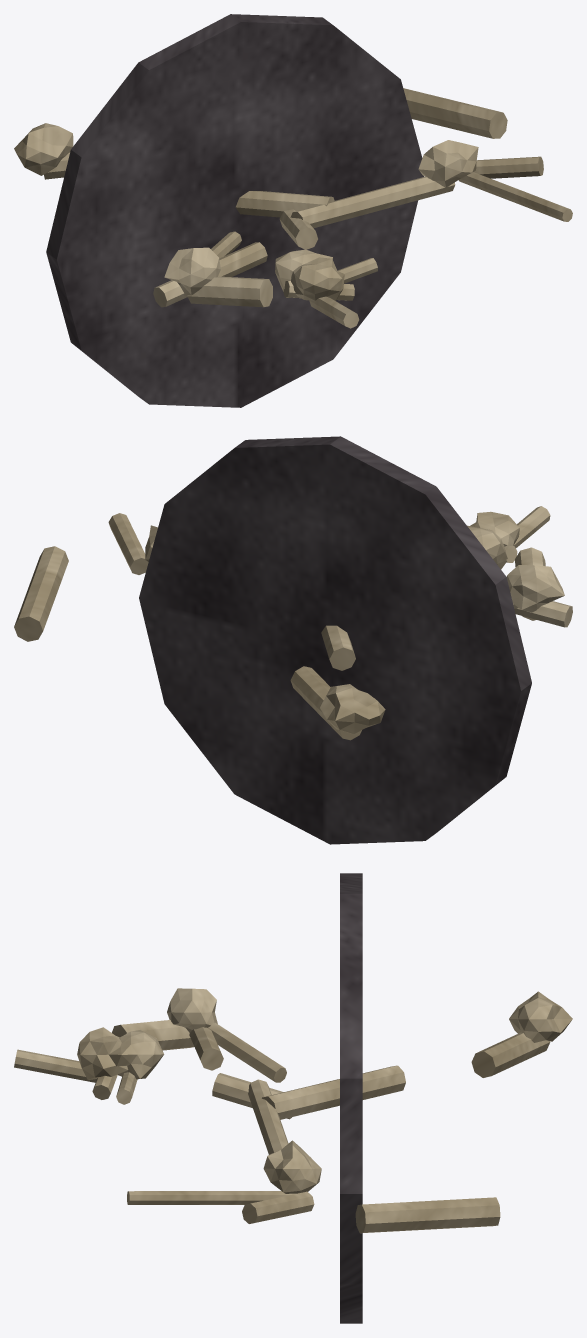
File: 0227_bone_heap_02.glb
3 views of the same model, one above another, from view 1: azimuth 30°, elevation 25°; view 2: azimuth 150°, elevation 25°; view 3: azimuth 270°, elevation 25° (orthographic). The views are drawn at different scales.
Visible parts, largest first — view 1: ash, bone; view 2: ash, bone; view 3: bone, ash.
Part boxes in pixels (bbox=[...]): ash: bbox=[46, 14, 423, 407]; bone: bbox=[14, 88, 572, 328]; ash: bbox=[139, 436, 531, 844]; bone: bbox=[14, 506, 572, 740]; bone: bbox=[14, 988, 572, 1233]; ash: bbox=[340, 873, 362, 1323].
Bounding box in the file's own units: 2.01 × 1.6 × 1.98.
Materials: 2 (2 with a texture image).
